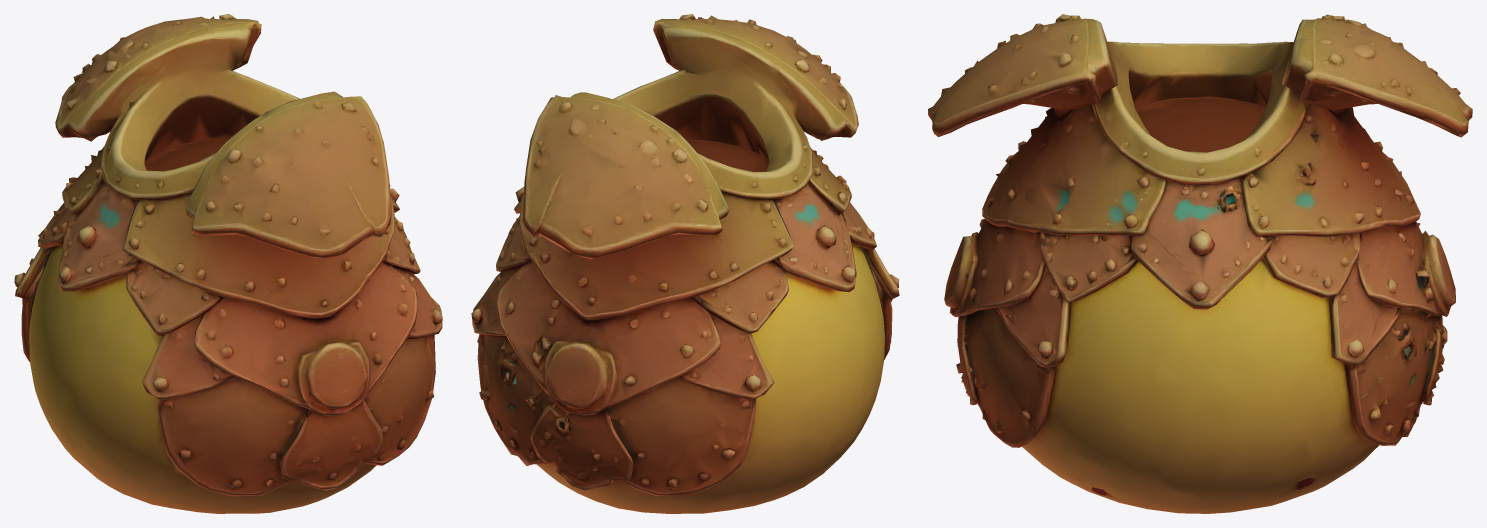
File: body.glb
3 views of the same model, side by side, from view 1: azimuth 30°, elevation 25°; view 2: azimuth 150°, elevation 25°; view 3: azimuth 270°, elevation 25° (orthographic). The views are drawn at different scales.
Visible parts, largest first — view 1: tripo_node_1e674a43-fe60-4f2f-9766-91cf9613e71f; view 2: tripo_node_1e674a43-fe60-4f2f-9766-91cf9613e71f; view 3: tripo_node_1e674a43-fe60-4f2f-9766-91cf9613e71f.
Boxes of the visible parts, x1,y1,x2,y2 form: tripo_node_1e674a43-fe60-4f2f-9766-91cf9613e71f: (14,14,442,513); tripo_node_1e674a43-fe60-4f2f-9766-91cf9613e71f: (471,14,899,513); tripo_node_1e674a43-fe60-4f2f-9766-91cf9613e71f: (928,14,1472,513).
Size of the model in its own units: 0.8108 by 0.914 by 1.
Materials: 1 (1 with a texture image).
